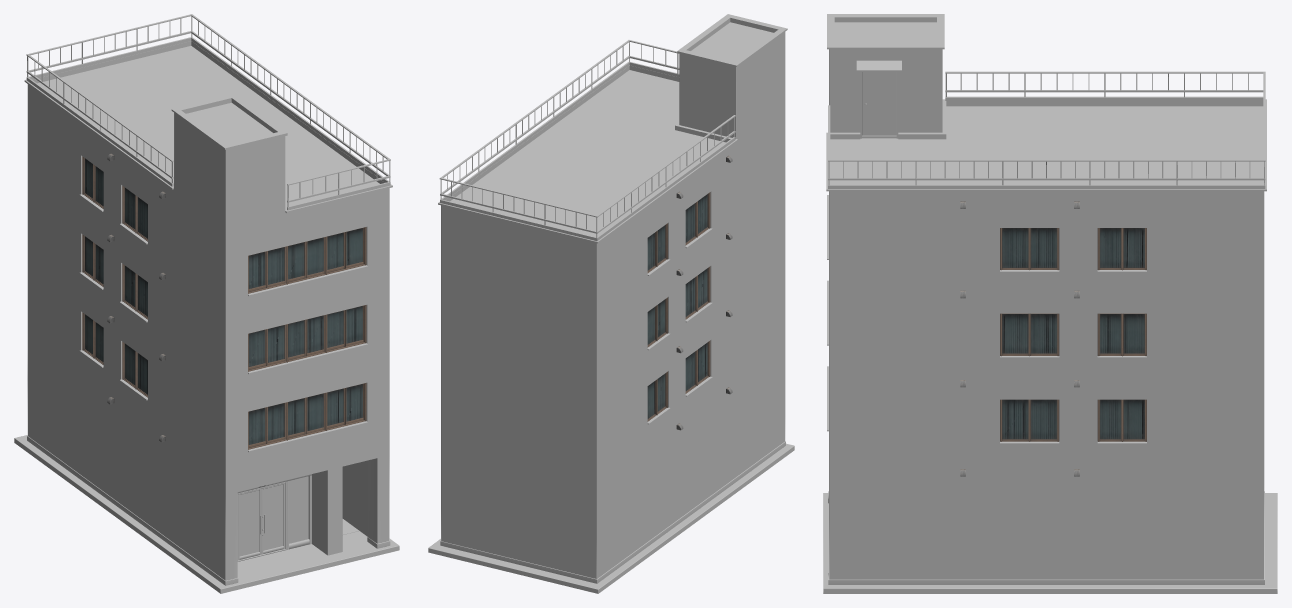
Rendered from BldD.fbx.
3 views of the same model, side by side, from view 1: azimuth 30°, elevation 25°; view 2: azimuth 150°, elevation 25°; view 3: azimuth 270°, elevation 25° (orthographic). The views are drawn at different scales.
Visible parts, largest first — view 1: BldD_LOD0; view 2: BldD_LOD0; view 3: BldD_LOD0.
Part boxes in pixels (x1,y1,x2,y2): BldD_LOD0: [14, 14, 399, 593]; BldD_LOD0: [428, 14, 794, 593]; BldD_LOD0: [823, 14, 1277, 593].
Size of the model in its own units: 600 by 1420 by 1200.
